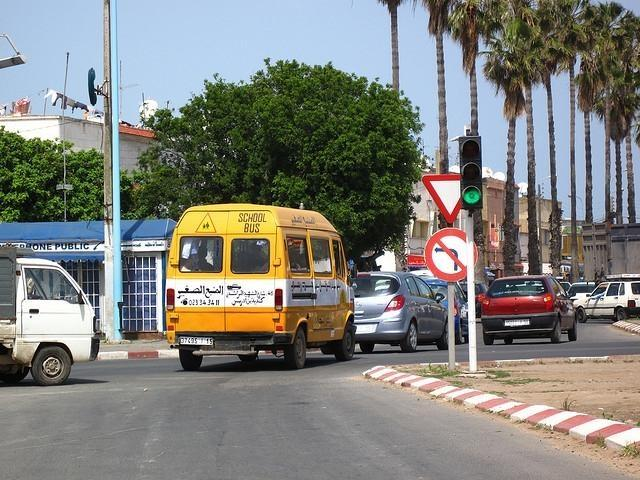car: (354, 272, 448, 354), (481, 276, 578, 344), (420, 278, 468, 344), (575, 281, 640, 324), (458, 280, 491, 318), (572, 282, 595, 308), (559, 282, 571, 292), (554, 276, 566, 282)
truck: (166, 206, 364, 386), (1, 248, 100, 386)
